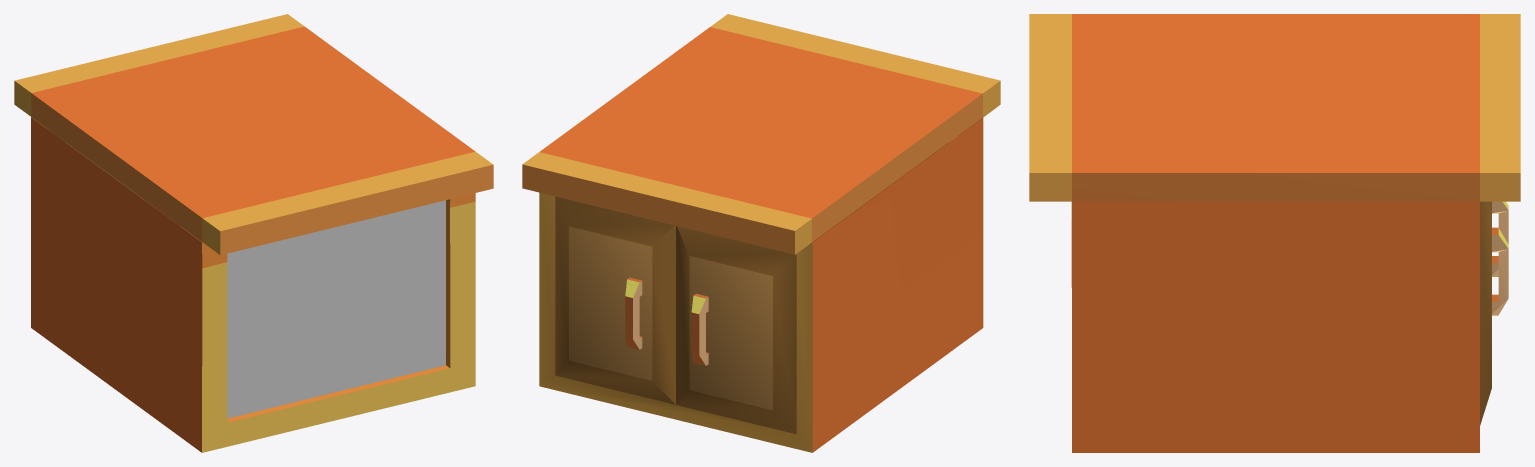
File: Order_Pate.fbx
The picture shows the model from 3 angles, left to right: view 1: azimuth 30°, elevation 25°; view 2: azimuth 150°, elevation 25°; view 3: azimuth 270°, elevation 25°; orthographic projection. The views are drawn at different scales.
Visible parts, largest first — view 1: Order_Pate; view 2: Order_Pate; view 3: Order_Pate.
Part boxes in pixels (x1=…): Order_Pate: x1=14, y1=14, x2=493, y2=452; Order_Pate: x1=522, y1=14, x2=1000, y2=452; Order_Pate: x1=1029, y1=14, x2=1520, y2=452.
Size of the model in its own units: 222 by 182 by 289.
